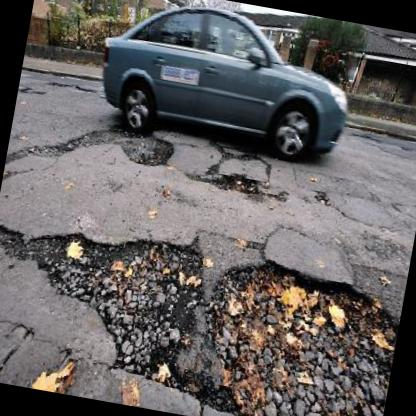pothole: (3, 205, 408, 416), (120, 128, 178, 170), (207, 166, 264, 198)
